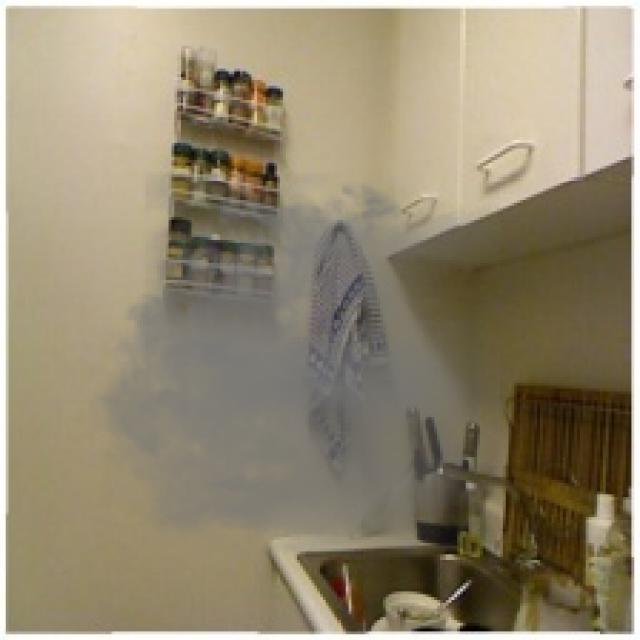smoke: (74, 172, 500, 557)
